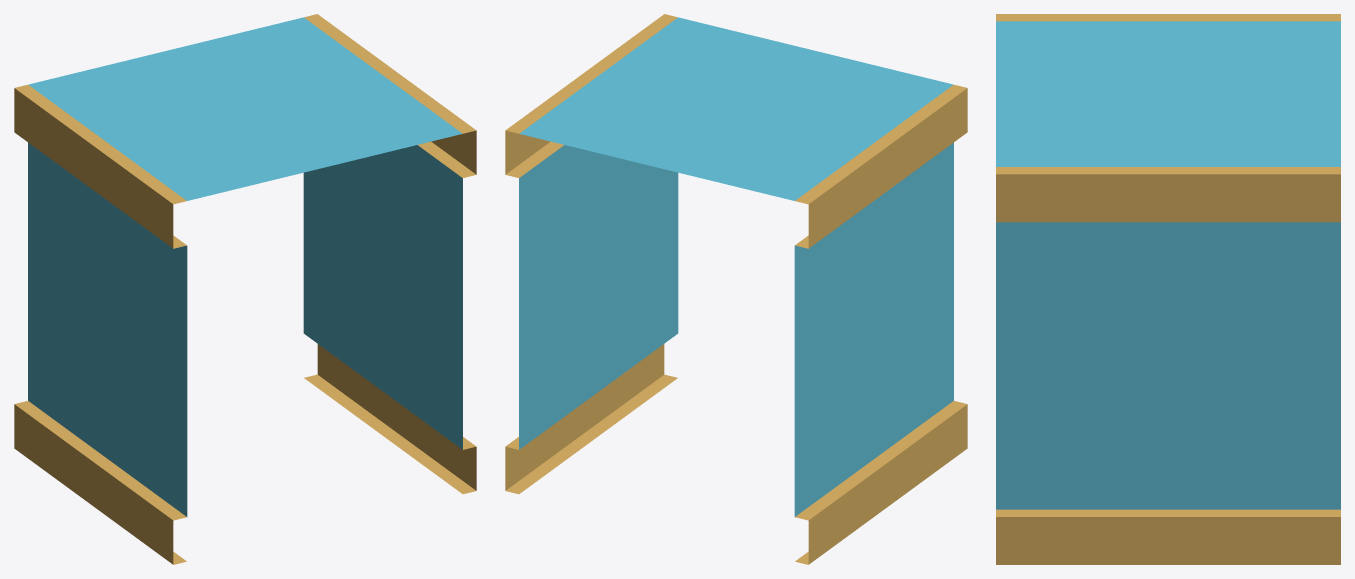
Rendered from SmallTH_Middle_Middle.fbx.
The picture shows the model from 3 angles, left to right: view 1: azimuth 30°, elevation 25°; view 2: azimuth 150°, elevation 25°; view 3: azimuth 270°, elevation 25°; orthographic projection. The views are drawn at different scales.
Visible parts, largest first — view 1: SmallTH_Middle_Middle; view 2: SmallTH_Middle_Middle; view 3: SmallTH_Middle_Middle.
Part boxes in pixels (<box>): SmallTH_Middle_Middle: <box>14,14,476,564</box>; SmallTH_Middle_Middle: <box>505,14,967,564</box>; SmallTH_Middle_Middle: <box>996,14,1340,564</box>.
Size of the model in its own units: 2.2 by 2.5 by 2.
